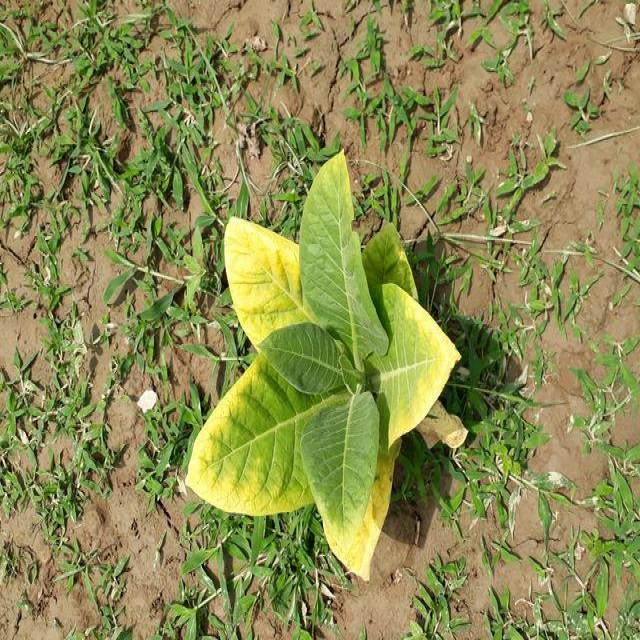crop: (183, 138, 478, 589)
